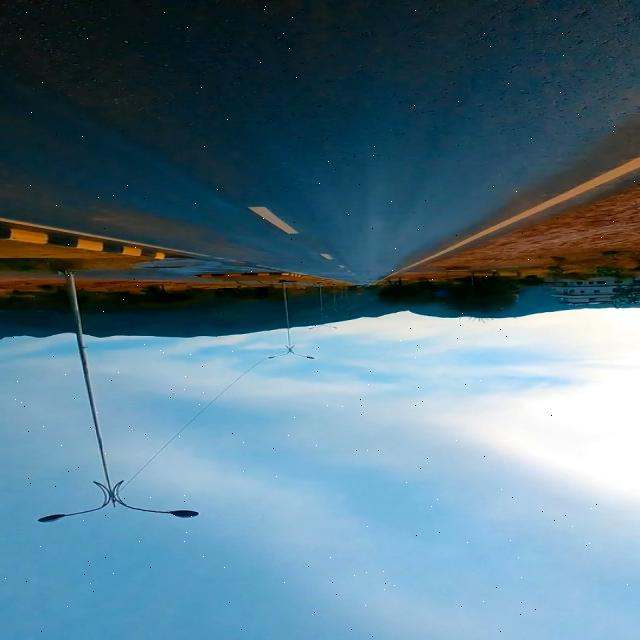lane: (379, 158, 640, 281)
road: (2, 1, 638, 284), (379, 158, 640, 281)
